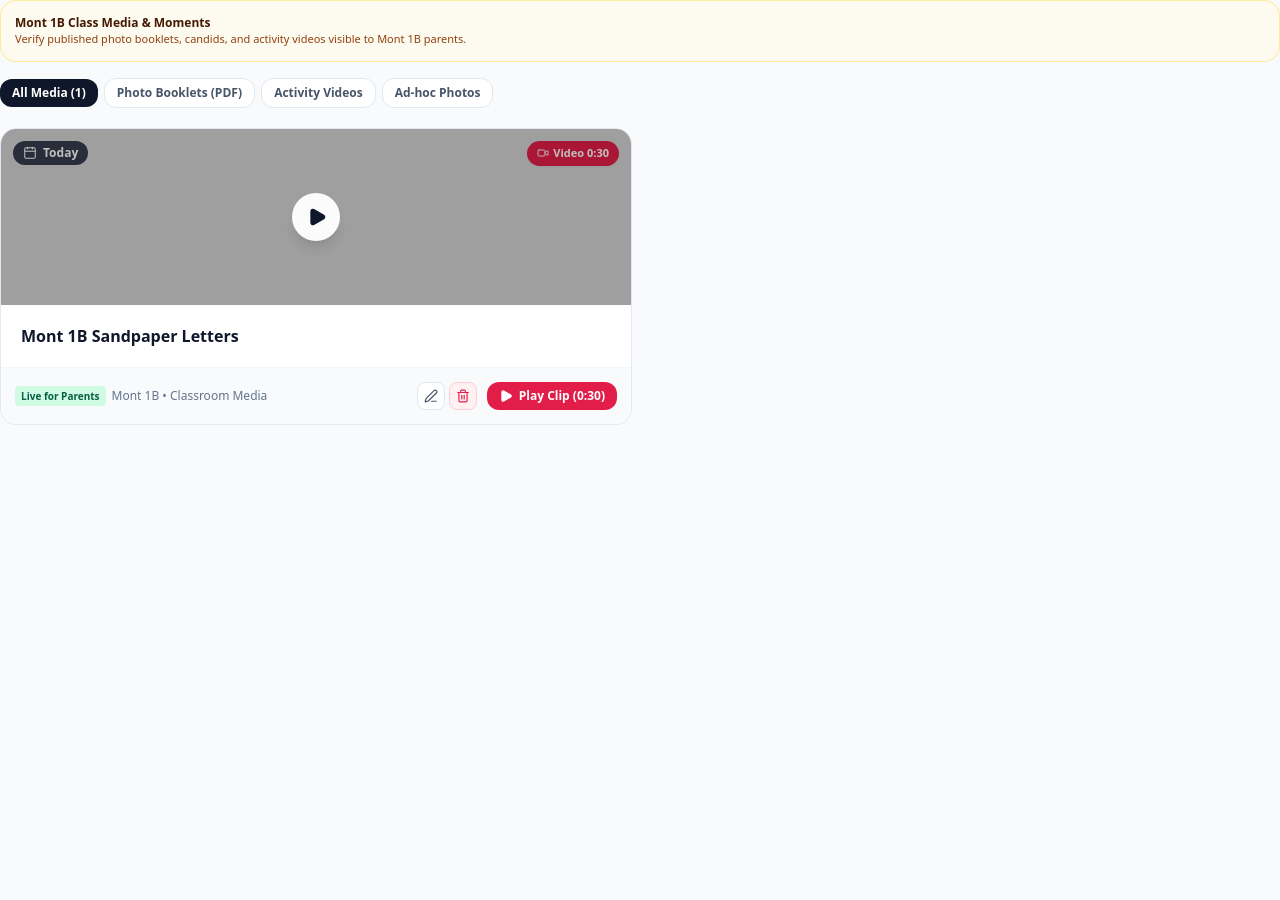
Test: Suite: Media & Circular Governance (Section Targeting, Edit & Retract Workflows) › triggers covering teacher soft guardrail when deleting media in covered section
Later steps or results of the test are not shown.
Click the button titled "Delete Media" at (463, 396), box [449,382,477,410]
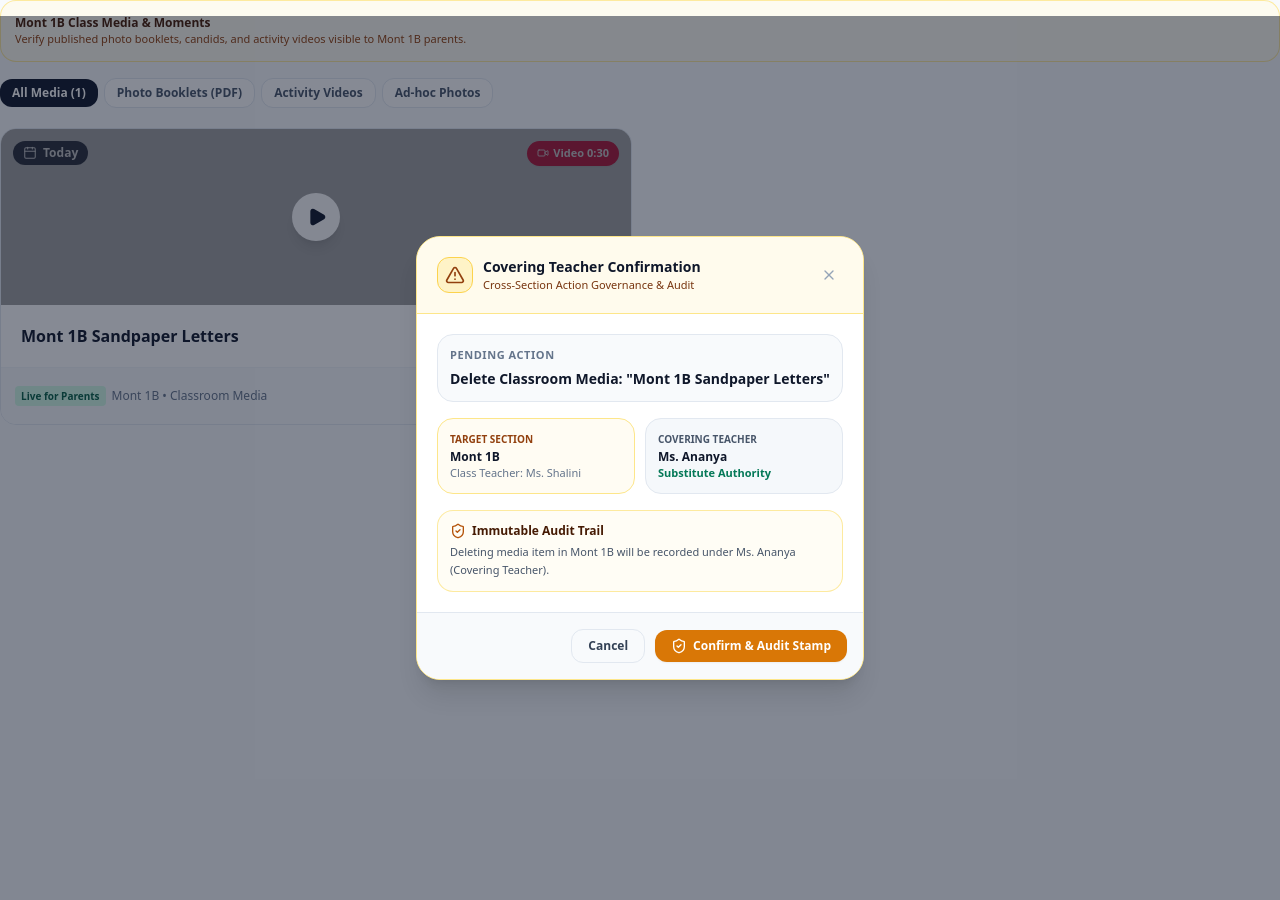
Expected: the heading "Covering Teacher Confirmation" is shown, [483,257,701,277]
Expected: the text "Ms. Ananya" is shown, [658,448,727,465]
